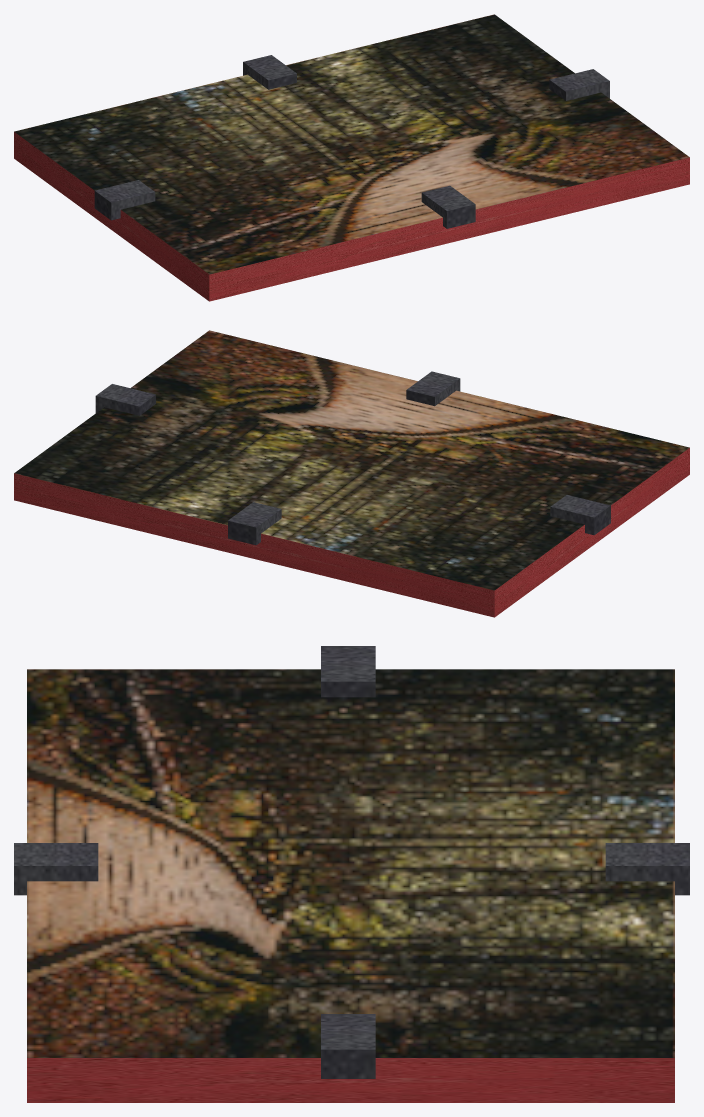
The model's file is frame5.FBX.
The picture shows the model from 3 angles, top to bottom: view 1: azimuth 30°, elevation 25°; view 2: azimuth 150°, elevation 25°; view 3: azimuth 270°, elevation 25°; orthographic projection. The views are drawn at different scales.
Visible parts, largest first — view 1: Object001, Box001, Box004, Box002, Box005, Box003; view 2: Object001, Box001, Box004, Box003, Box005, Box002; view 3: Object001, Box001, Box005, Box003, Box002, Box004.
Boxes of the visible parts, x1,y1,x2,y2 form: Object001: (14,14,689,274); Box001: (14,132,689,301); Box004: (94,180,155,220); Box002: (421,185,475,228); Box005: (549,69,609,100); Box003: (243,55,296,89); Object001: (14,330,689,590); Box001: (14,448,689,617); Box004: (550,495,610,535); Box003: (228,502,281,545); Box005: (95,384,155,415); Box002: (406,371,460,406); Object001: (27,669,674,1057); Box001: (27,1058,674,1102); Box005: (321,1014,375,1078); Box003: (605,843,689,895); Box002: (14,843,98,895); Box004: (321,646,375,697).
Bounding box in the file's own units: 93.56 × 6.52 × 66.26.
4 materials, 4 textured.
